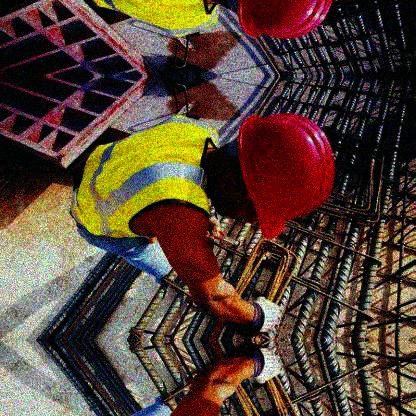helmet: (203, 112, 337, 241)
